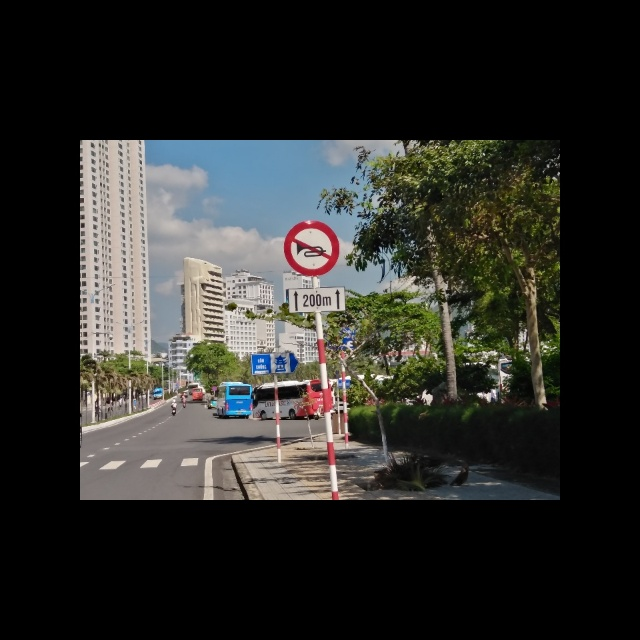Cấm bấm còi: (283, 222, 340, 278)
